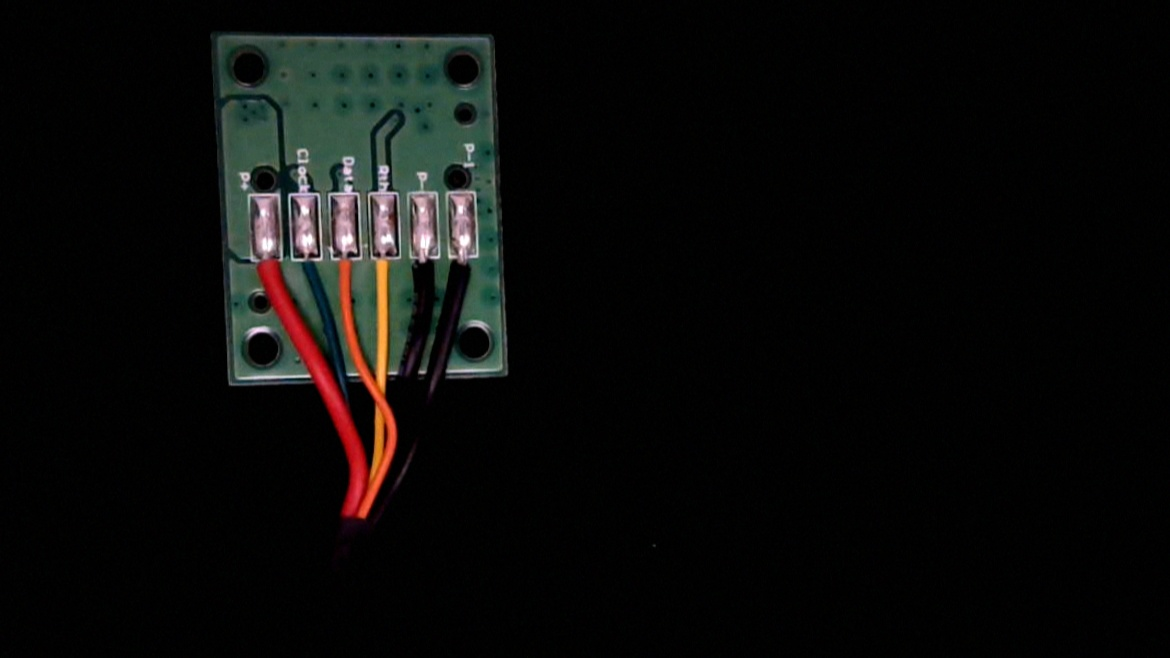Black: (410, 241, 439, 312)
Black1: (449, 239, 482, 309)
Green: (290, 241, 323, 300)
Orange: (329, 239, 362, 301)
Red: (252, 242, 285, 304)
Yellow: (370, 239, 399, 305)
